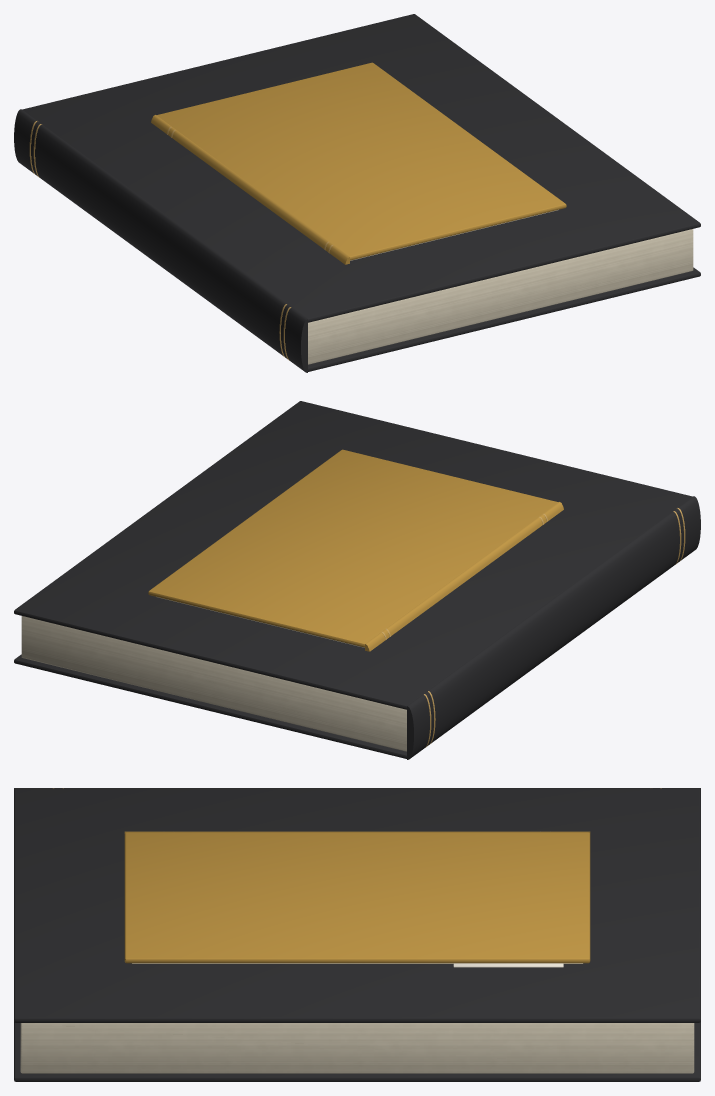
The model's file is books.glb.
3 views of the same model, one above another, from view 1: azimuth 30°, elevation 25°; view 2: azimuth 150°, elevation 25°; view 3: azimuth 270°, elevation 25° (orthographic). The views are drawn at different scales.
Parts seen in each view (by area): view 1: art_charcoal, novel_ochre; view 2: art_charcoal, novel_ochre; view 3: art_charcoal, novel_ochre.
Boxes of the visible parts, box(x1,y1,x2,y2) form: art_charcoal: box(14, 14, 700, 372); novel_ochre: box(151, 62, 566, 264); art_charcoal: box(14, 401, 700, 759); novel_ochre: box(148, 449, 563, 651); art_charcoal: box(14, 788, 700, 1081); novel_ochre: box(124, 831, 590, 963).
Size of the model in its own units: 0.2502 by 0.036 by 0.31.
Materials: 11 (1 with a texture image).
